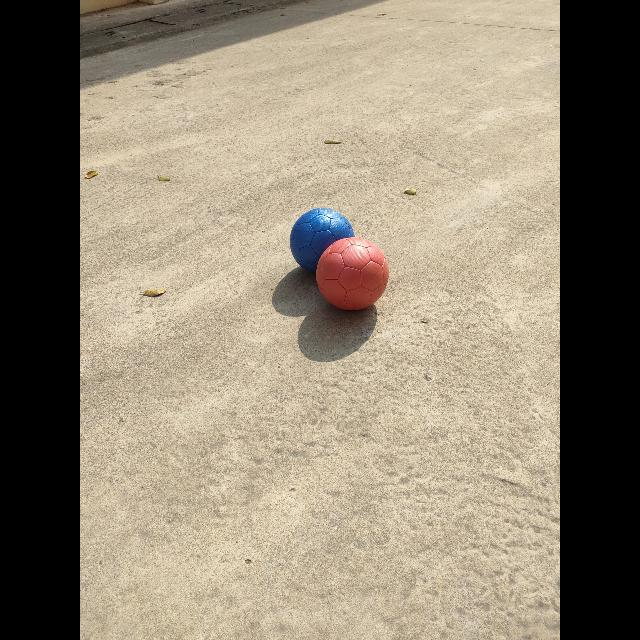B: (290, 209, 354, 272)
R: (316, 238, 389, 310)
